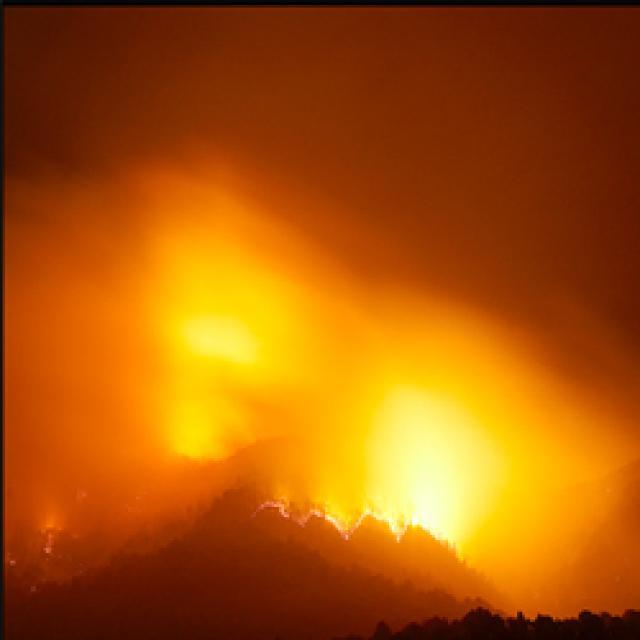Fire: (258, 456, 495, 580)
Smoke: (125, 172, 634, 510), (0, 180, 229, 600), (448, 358, 638, 640)
